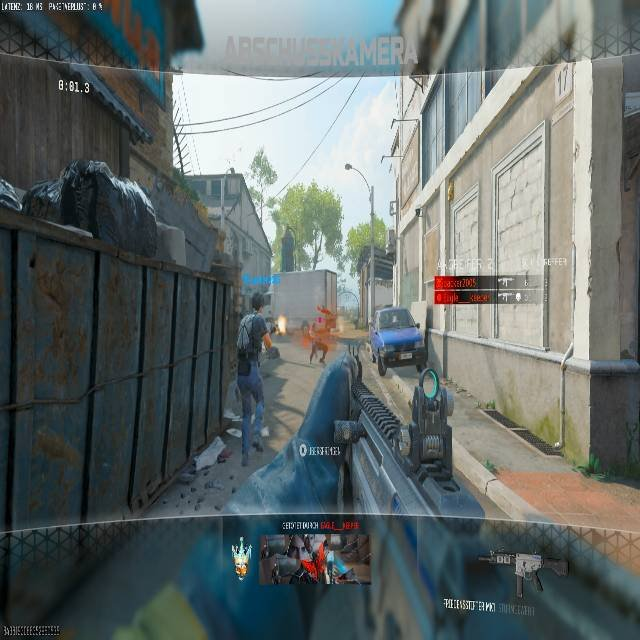head: (250, 287, 271, 311), (250, 292, 264, 313)
player: (233, 291, 279, 455), (307, 311, 332, 366)
